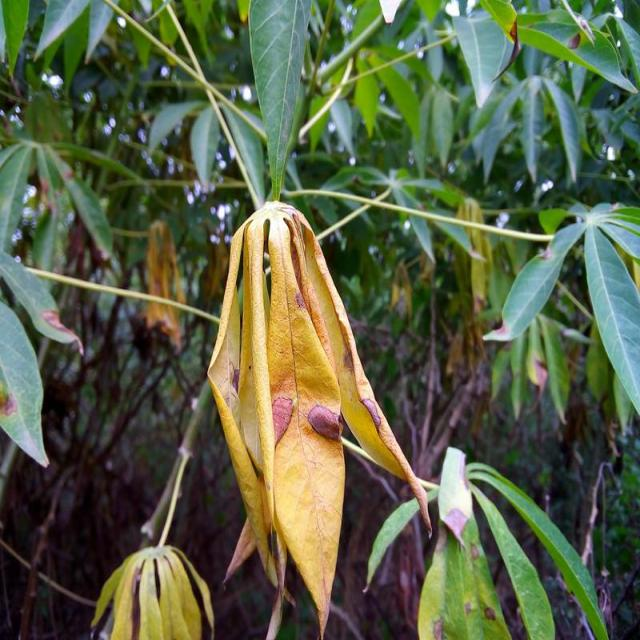cassava leaf: (205, 198, 434, 637), (246, 0, 311, 199)
